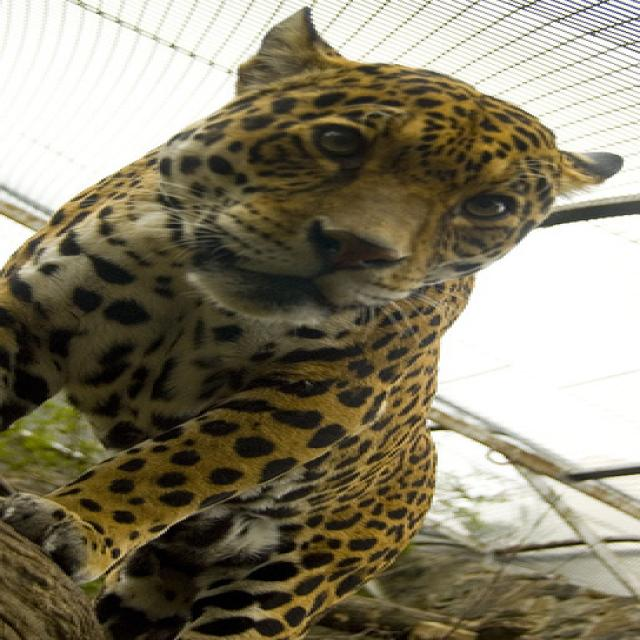Leopard: (0, 1, 631, 636)
